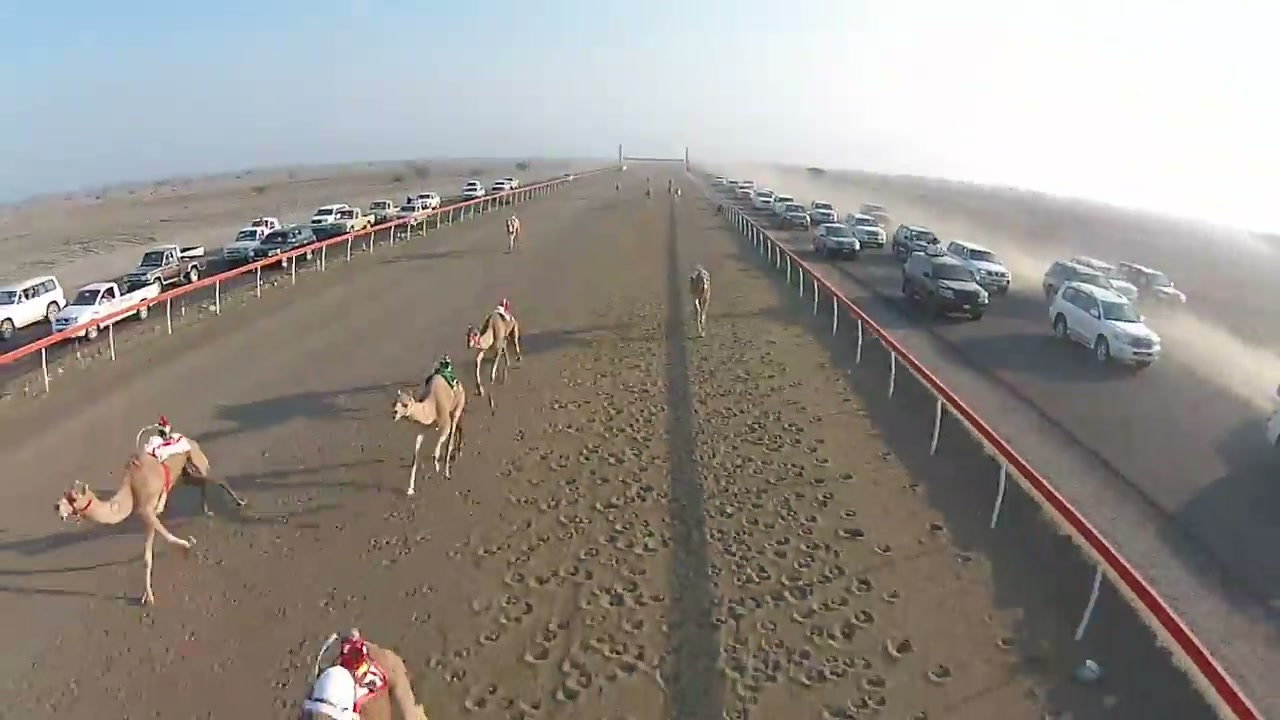animal_foot_print: (433, 251, 1059, 719), (431, 257, 1046, 717), (455, 319, 1010, 716), (689, 305, 1011, 716), (435, 329, 672, 717)
